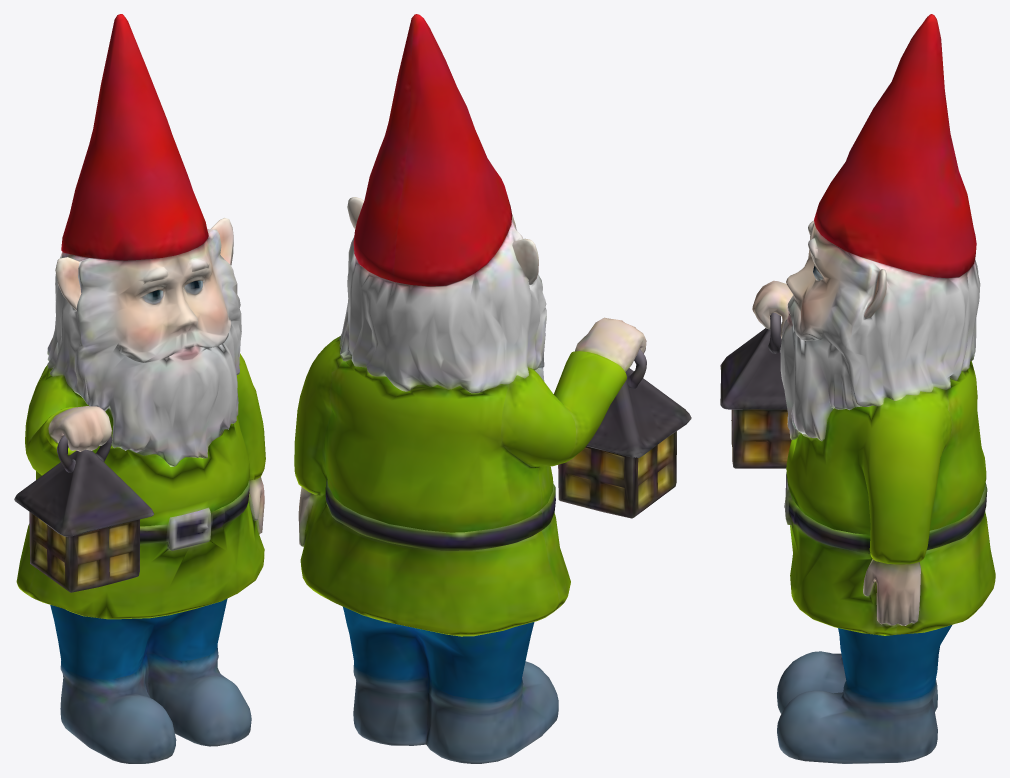
The model's file is garden_gnome.glb.
3 renders of one model, left to right at view 1: azimuth 30°, elevation 25°; view 2: azimuth 150°, elevation 25°; view 3: azimuth 270°, elevation 25°, orthographic. The views are drawn at different scales.
Parts seen in each view (by area): view 1: garden_gnome; view 2: garden_gnome; view 3: garden_gnome.
Part boxes in pixels (x1=…): garden_gnome: x1=14, y1=14, x2=265, y2=763; garden_gnome: x1=294, y1=14, x2=691, y2=763; garden_gnome: x1=720, y1=14, x2=995, y2=763.
Bounding box in the file's own units: 0.2574 × 0.5989 × 0.2097.
Materials: 1 (1 with a texture image).
